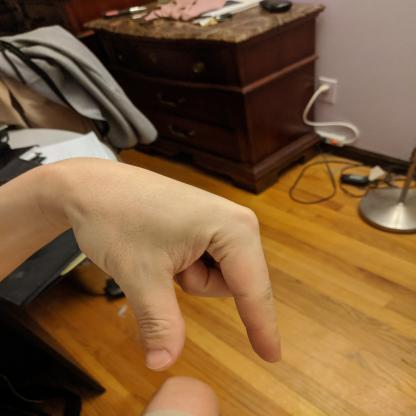Q: (68, 151, 288, 374)
